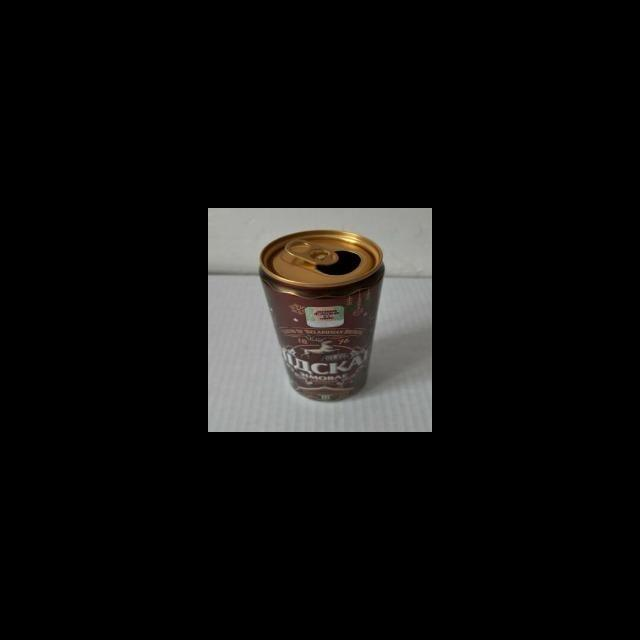metal: (250, 214, 393, 418)
